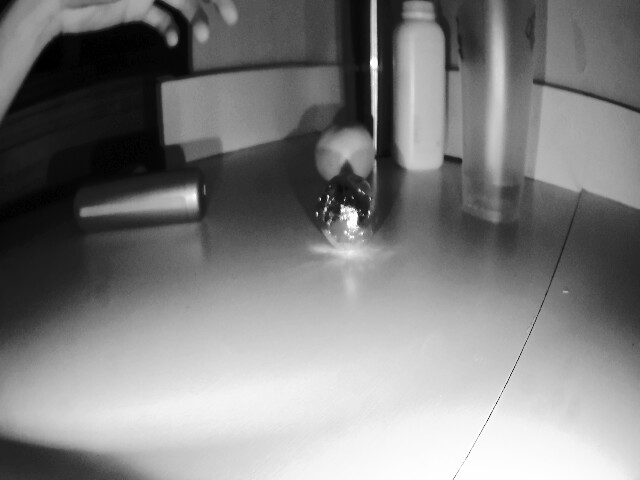silver: (313, 169, 378, 248)
